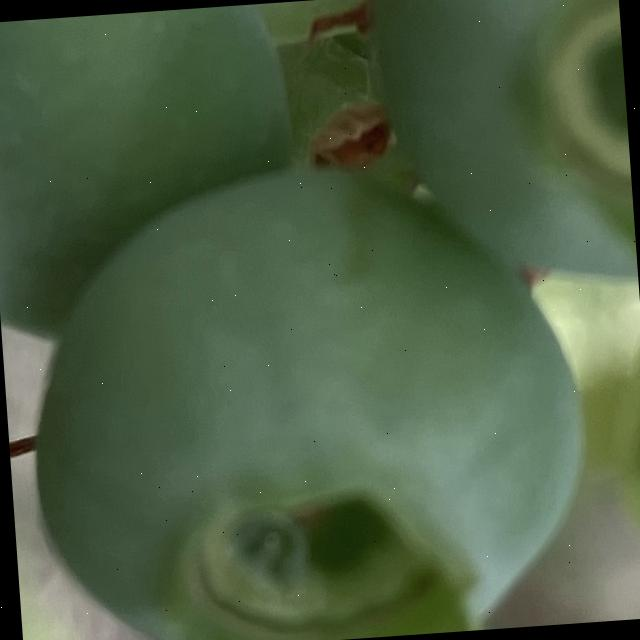Blueberries: (12, 141, 601, 640), (0, 1, 311, 393), (367, 0, 638, 299)
